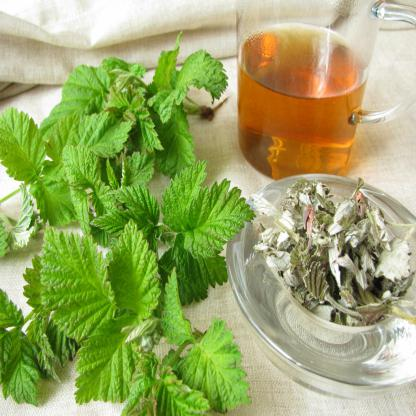raspberry leaf: (44, 226, 126, 336), (181, 316, 251, 415), (71, 320, 149, 406), (181, 176, 255, 254), (110, 219, 159, 318), (0, 107, 48, 186), (161, 159, 207, 228), (30, 174, 83, 227), (43, 113, 80, 172)
